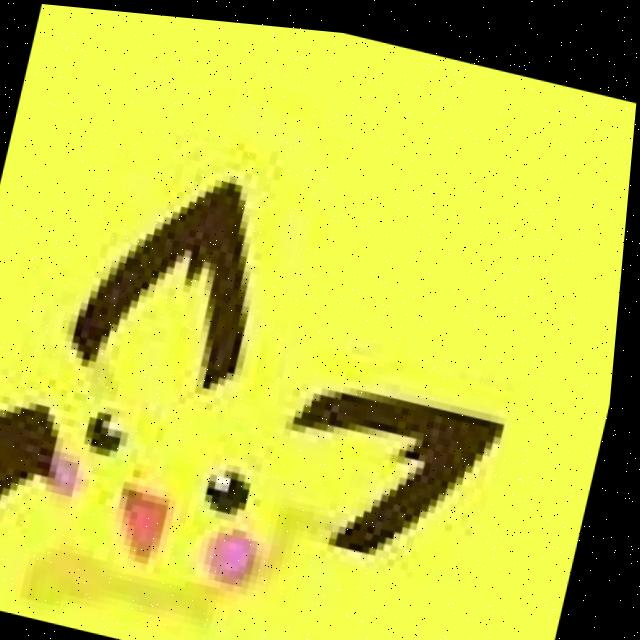pichu: (0, 108, 549, 640)
